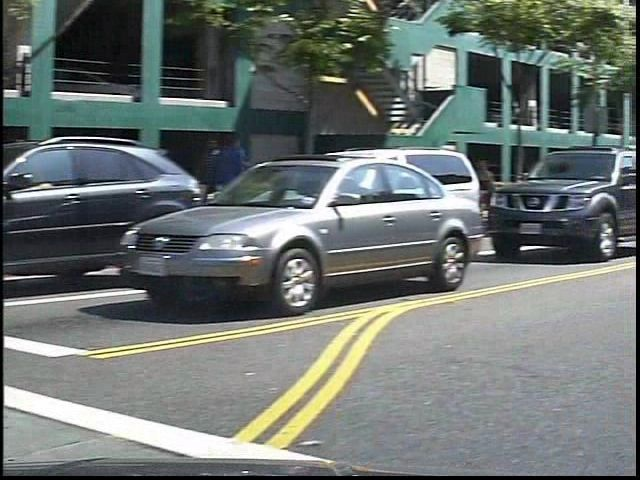person: (222, 127, 271, 244), (486, 156, 516, 229)
